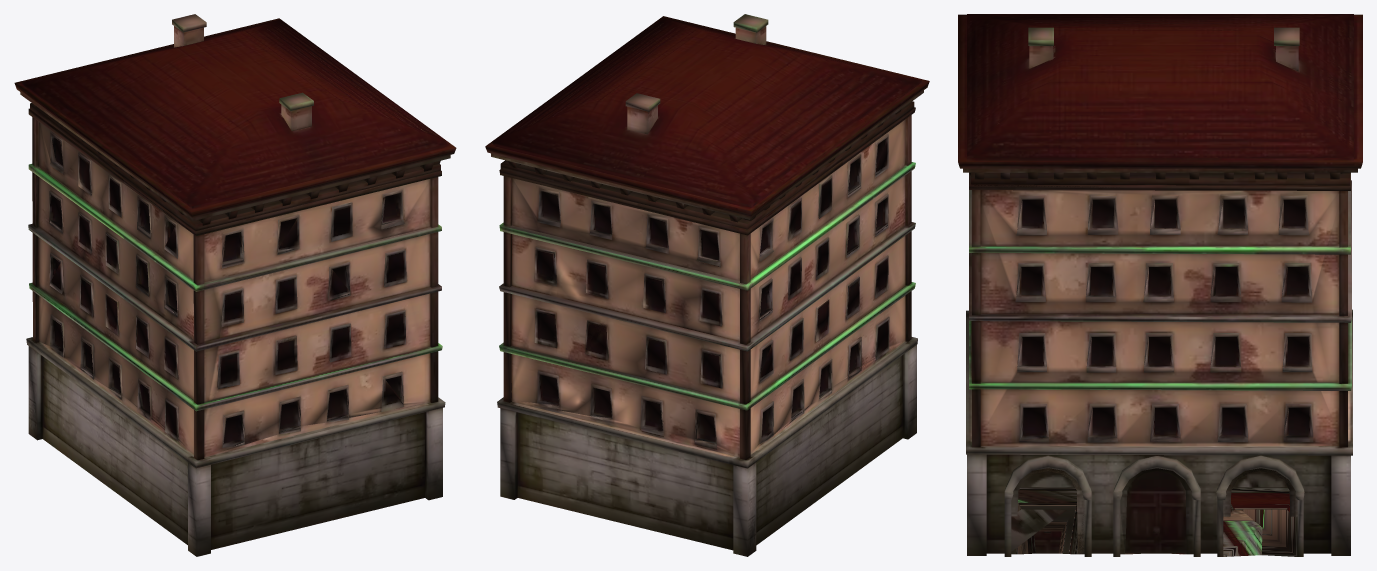
Rendered from insula.glb.
The picture shows the model from 3 angles, left to right: view 1: azimuth 30°, elevation 25°; view 2: azimuth 150°, elevation 25°; view 3: azimuth 270°, elevation 25°; orthographic projection. The views are drawn at different scales.
Parts seen in each view (by area): view 1: model; view 2: model; view 3: model.
Boxes of the visible parts, box(x1,y1,x2,y2) form: model: box(14, 14, 456, 556); model: box(485, 14, 929, 556); model: box(958, 14, 1362, 556).
Size of the model in its own units: 0.6908 by 1 by 0.8004.
Materials: 1 (1 with a texture image).
